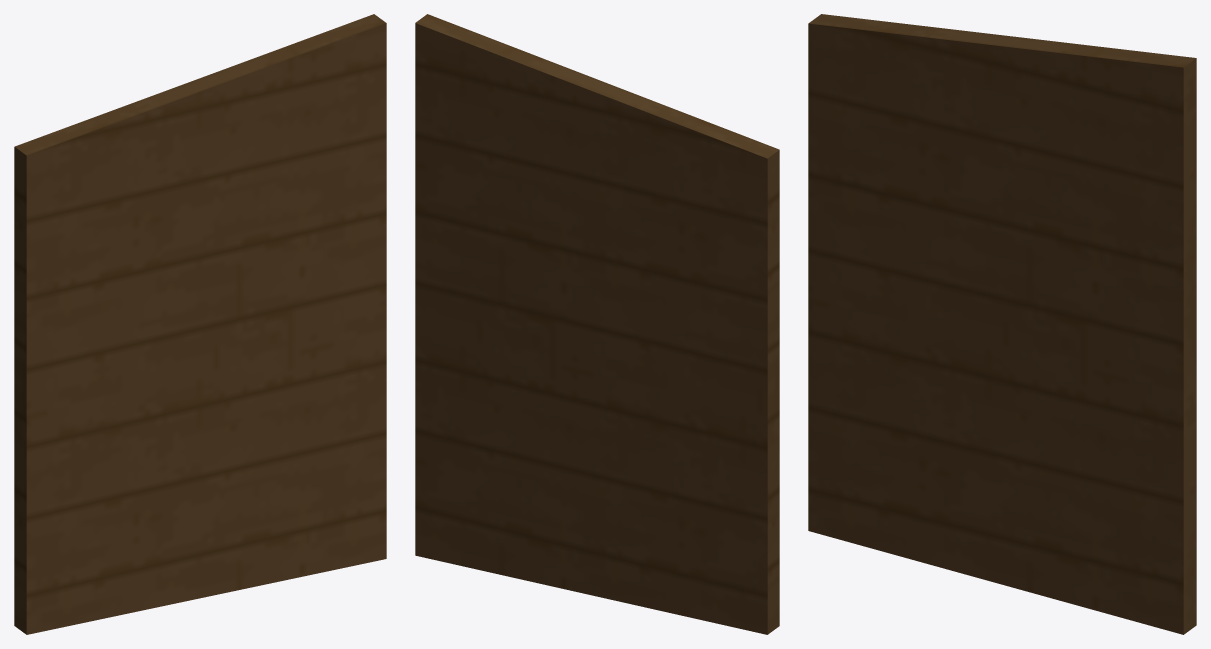
File: L1_Market_P3.fbx
3 renders of one model, left to right at view 1: azimuth 30°, elevation 25°; view 2: azimuth 150°, elevation 25°; view 3: azimuth 330°, elevation 25°, orthographic. The views are drawn at different scales.
Visible parts, largest first — view 1: L1_Market_P3; view 2: L1_Market_P3; view 3: L1_Market_P3.
Boxes of the visible parts, box(x1,y1,x2,y2) form: L1_Market_P3: box(14, 14, 386, 634); L1_Market_P3: box(415, 14, 779, 634); L1_Market_P3: box(808, 14, 1196, 634).
Size of the model in its own units: 191 by 274 by 13.88.
Materials: 1 (1 with a texture image).
